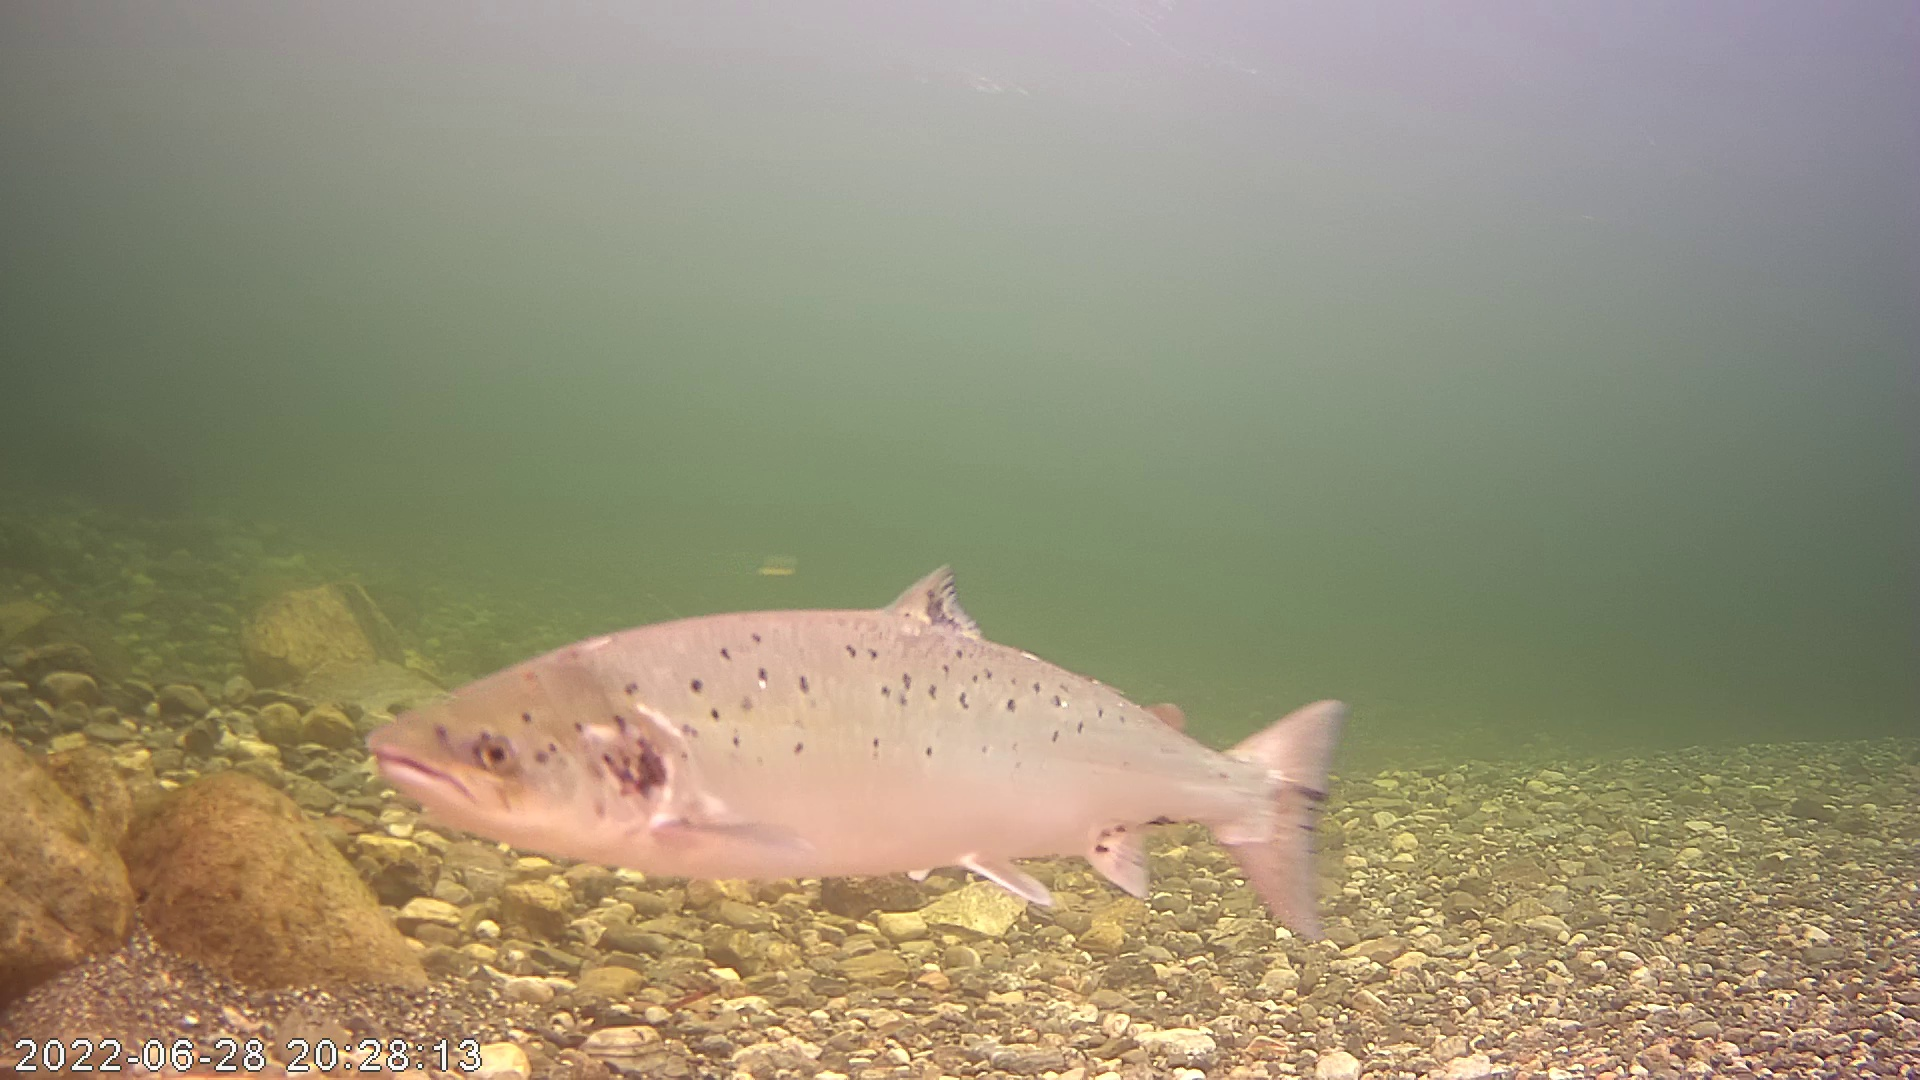salmon: (339, 522, 1365, 899)
